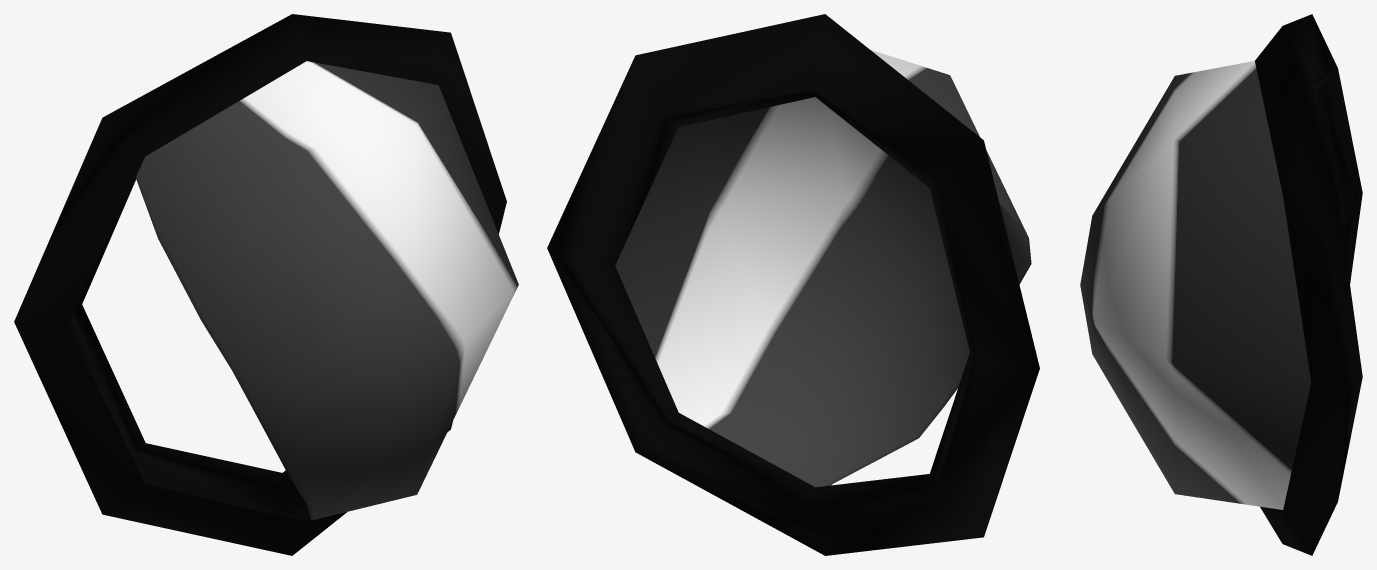
The model's file is shell.fbx.
3 views of the same model, side by side, from view 1: azimuth 30°, elevation 25°; view 2: azimuth 150°, elevation 25°; view 3: azimuth 270°, elevation 25° (orthographic). The views are drawn at different scales.
Visible parts, largest first — view 1: hammershell; view 2: hammershell; view 3: hammershell.
Part boxes in pixels (left/top/right/bottom): hammershell: left=14, top=14, right=518, bottom=555; hammershell: left=547, top=14, right=1039, bottom=555; hammershell: left=1080, top=14, right=1362, bottom=555.
Size of the model in its own units: 1061 by 1115 by 551.
Materials: 2 (2 with a texture image).
